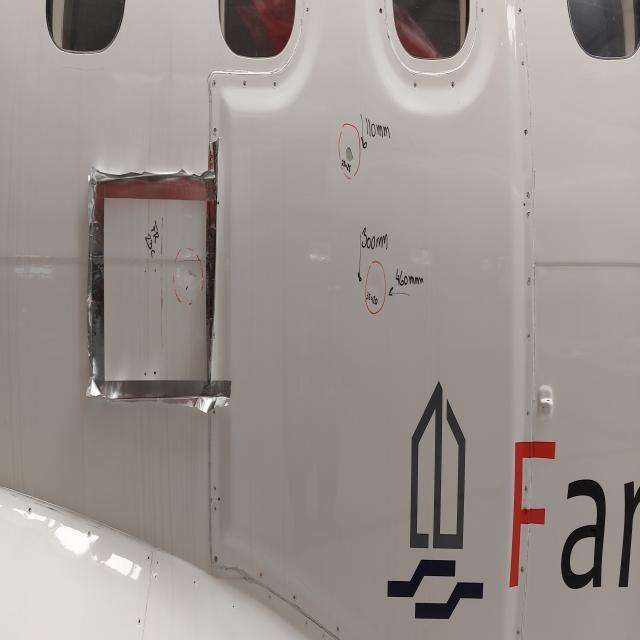dent: (174, 266, 198, 298)
